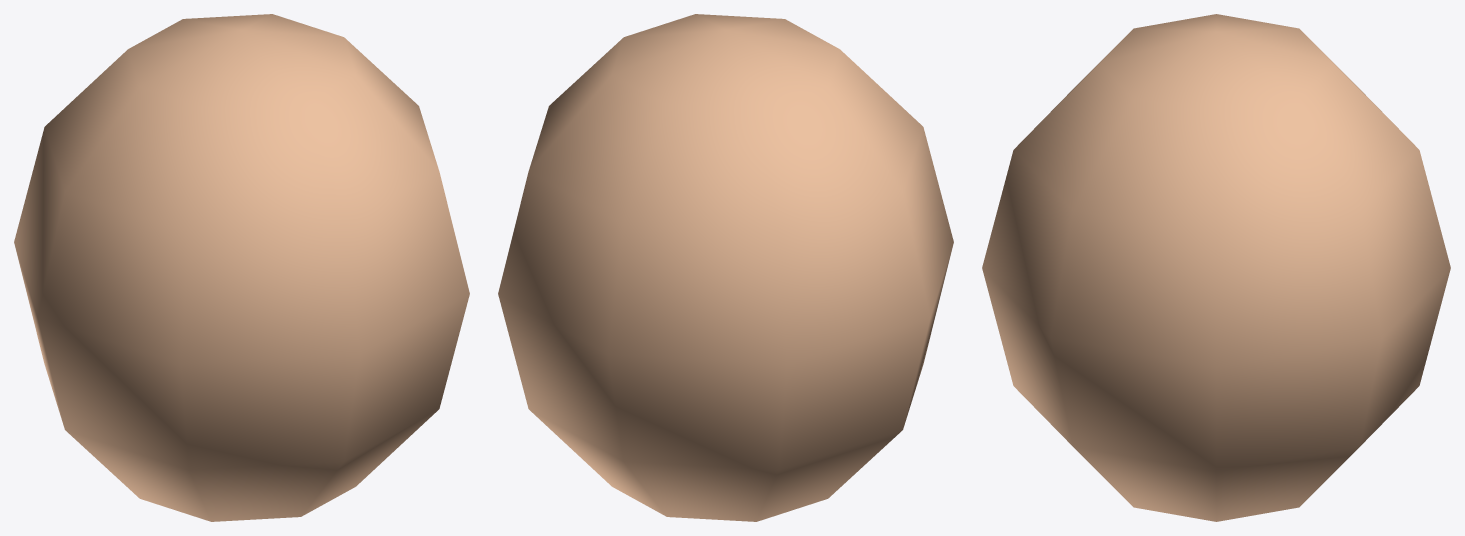
File: yuan.glb
The picture shows the model from 3 angles, left to right: view 1: azimuth 30°, elevation 25°; view 2: azimuth 150°, elevation 25°; view 3: azimuth 270°, elevation 25°; orthographic projection.
Visible parts, largest first — view 1: 圆圆; view 2: 圆圆; view 3: 圆圆.
Part boxes in pixels (x1,y1,x2,y2): 圆圆: (14, 14, 469, 521); 圆圆: (498, 14, 953, 521); 圆圆: (982, 14, 1450, 521).
Size of the model in its own units: 1.44 by 1.6 by 1.44.
Materials: 1 (1 with a texture image).
